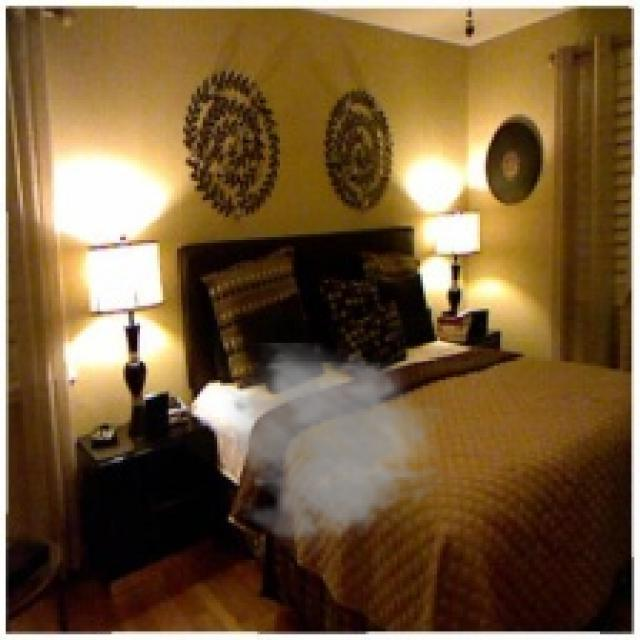Smoke: (217, 342, 449, 558)
